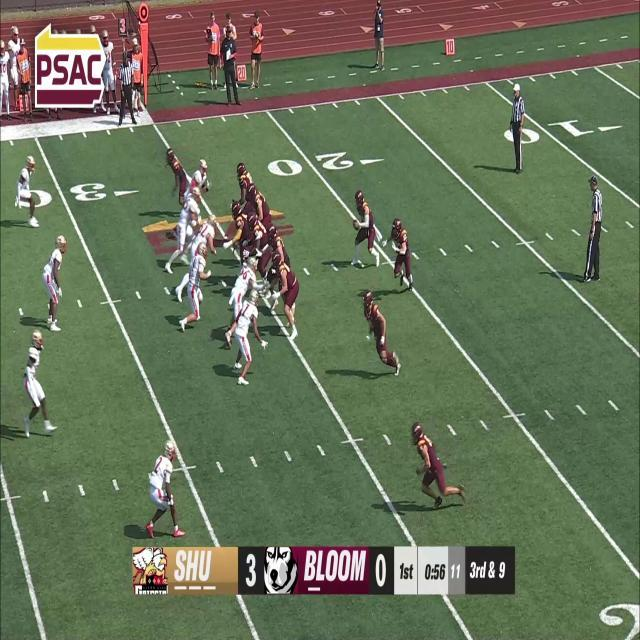football: (352, 218, 359, 230)
